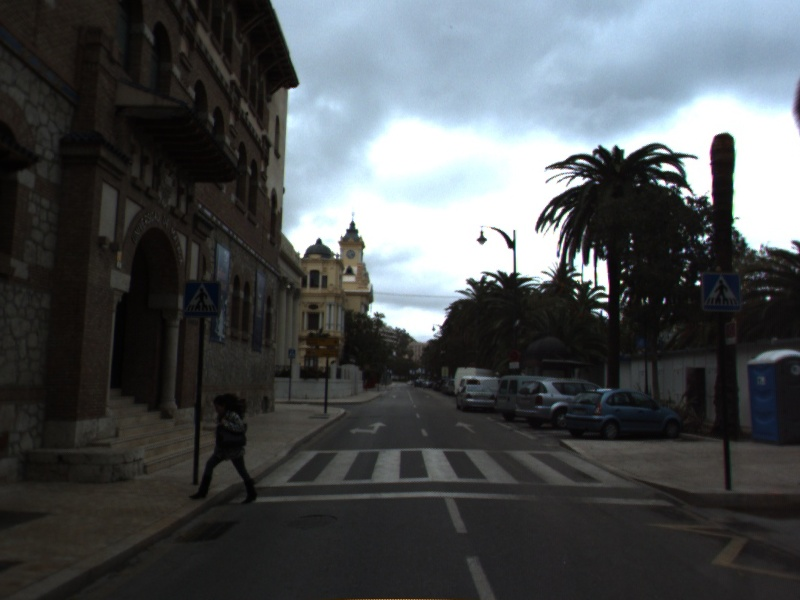STRAIGHT: (453, 419, 479, 436)
STRAIGHT_LEFT: (347, 420, 389, 436)
